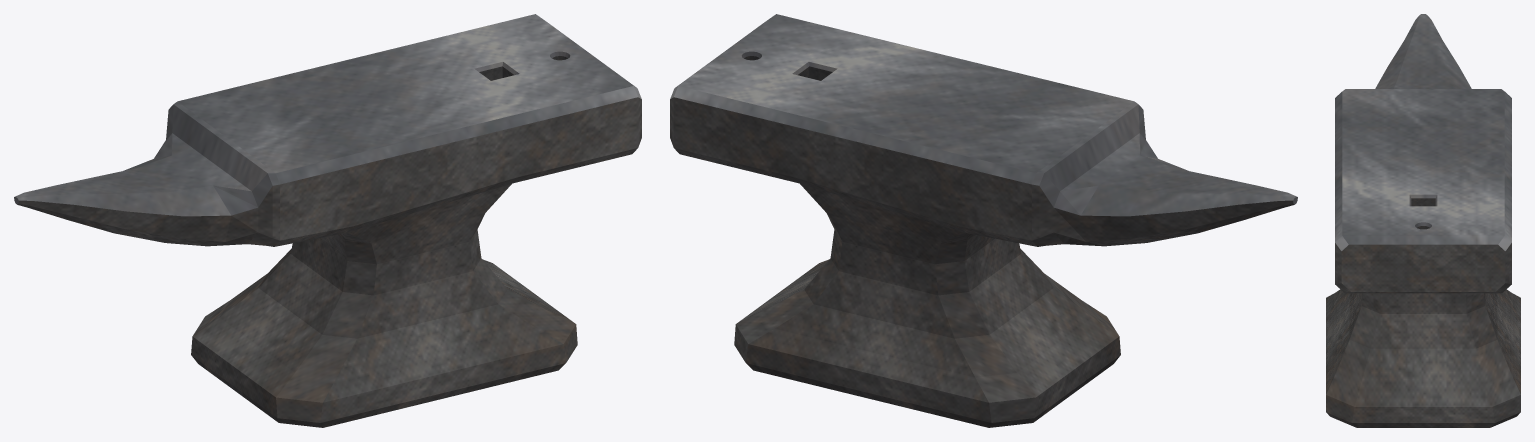
Rendered from Bigorna.glb.
3 renders of one model, left to right at view 1: azimuth 30°, elevation 25°; view 2: azimuth 150°, elevation 25°; view 3: azimuth 270°, elevation 25°, orthographic. The views are drawn at different scales.
Visible parts, largest first — view 1: Bigorna; view 2: Bigorna; view 3: Bigorna.
Part boxes in pixels (x1=…): Bigorna: x1=14, y1=14, x2=641, y2=427; Bigorna: x1=670, y1=14, x2=1297, y2=427; Bigorna: x1=1326, y1=14, x2=1520, y2=427.
Bounding box in the file's own units: 0.677 × 0.291 × 0.24.
Materials: 3 (3 with a texture image).
